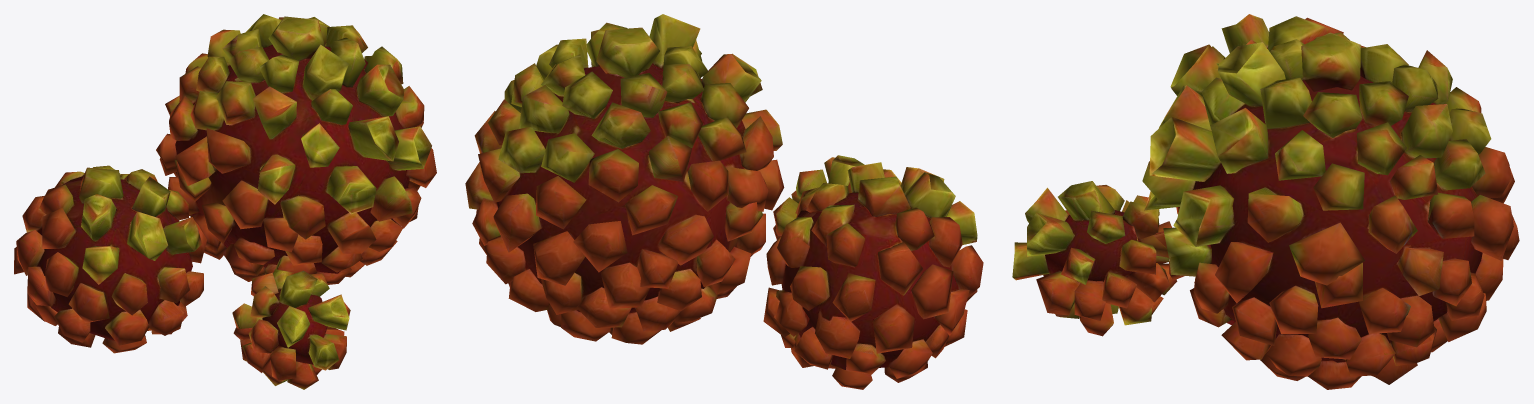
The model's file is Spiky_Orange_Spheres.glb.
3 views of the same model, side by side, from view 1: azimuth 30°, elevation 25°; view 2: azimuth 150°, elevation 25°; view 3: azimuth 270°, elevation 25° (orthographic). The views are drawn at different scales.
Size of the model in its own units: 1 by 0.6504 by 0.877.
Materials: 1 (1 with a texture image).
